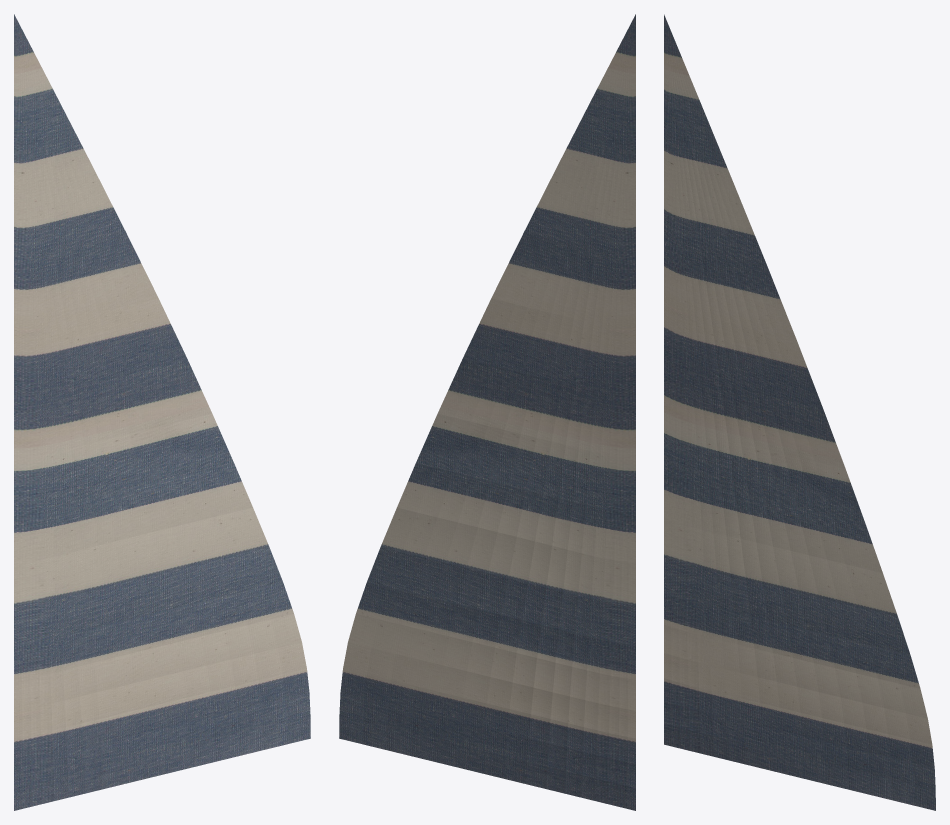
The model's file is Sail_Grot_mesh.fbx.
3 renders of one model, left to right at view 1: azimuth 30°, elevation 25°; view 2: azimuth 150°, elevation 25°; view 3: azimuth 330°, elevation 25°, orthographic. The views are drawn at different scales.
Parts seen in each view (by area): view 1: Grot.001; view 2: Grot.001; view 3: Grot.001.
Boxes of the visible parts, x1,y1,x2,y2 form: Grot.001: [14, 14, 310, 810]; Grot.001: [339, 14, 635, 810]; Grot.001: [664, 14, 935, 810].
Bounding box in the file's own units: 686 × 1761 × 4.84e-06.
